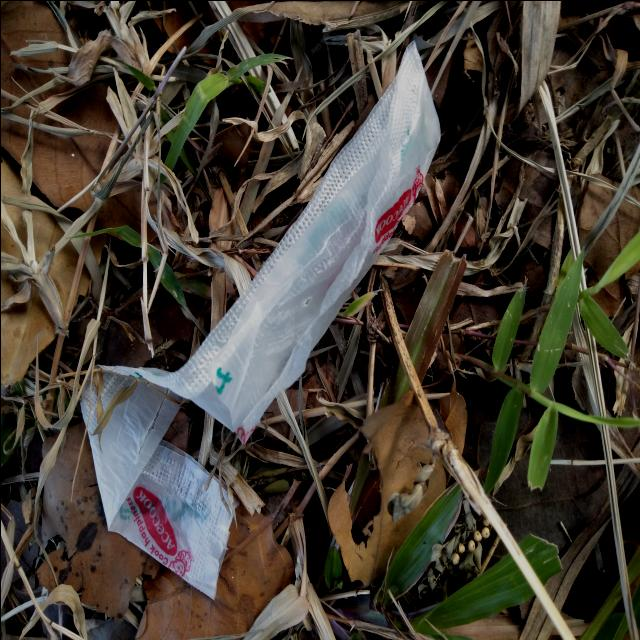Plastic film: (78, 40, 440, 600)
